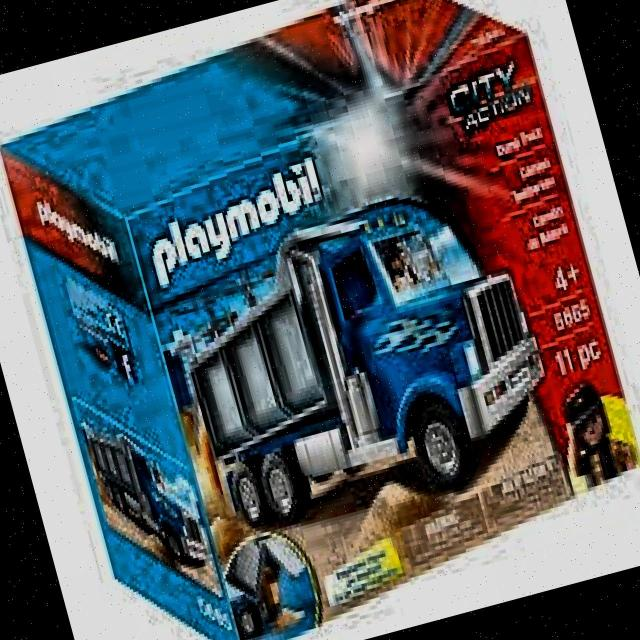dump_truck: (156, 170, 566, 544)
